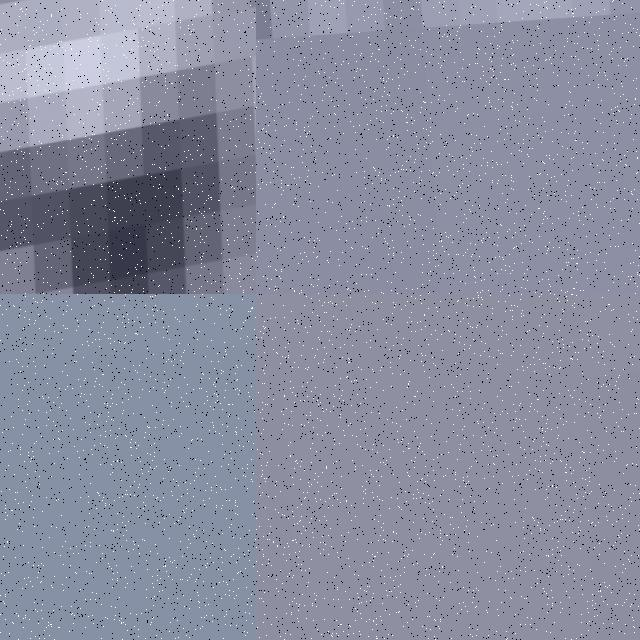drone: (0, 0, 256, 294)
